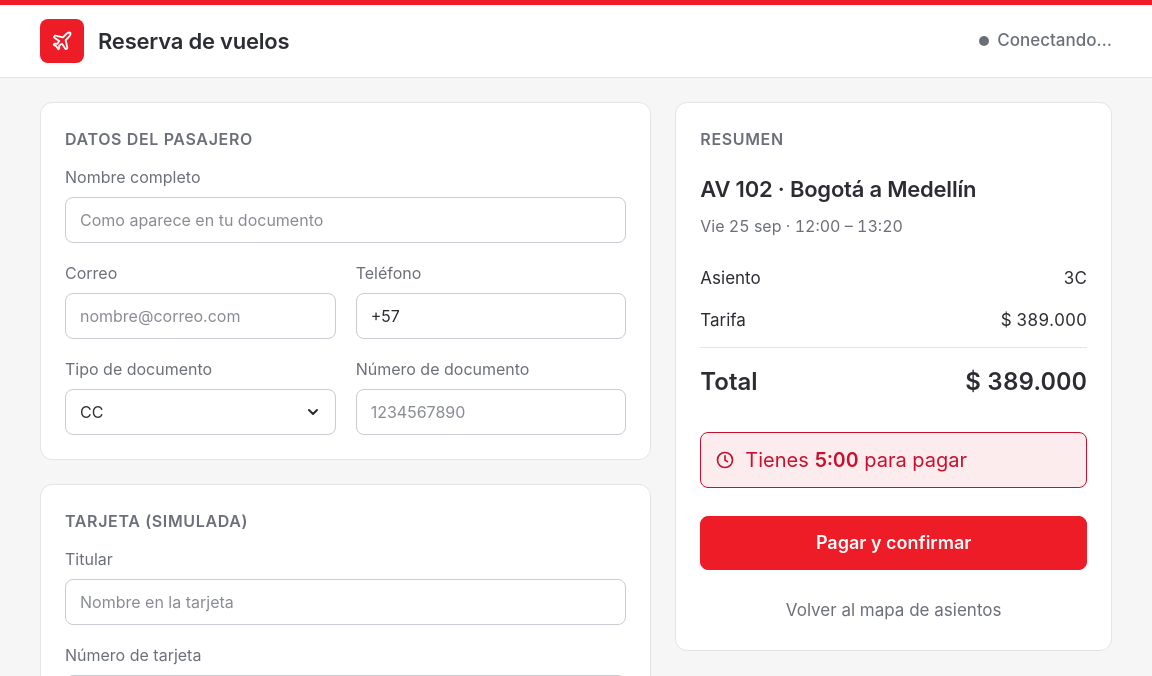
Test: CheckoutPage: the form › the document rules follow the document type
The image size is (1152, 676).
Expected: the button "Pagar y confirmar" is shown, [700,516,1087,570]
Type "AB12345" into the field with id "documentNumber".
click(491, 412); type("AB12345")  # box [356,389,626,435]
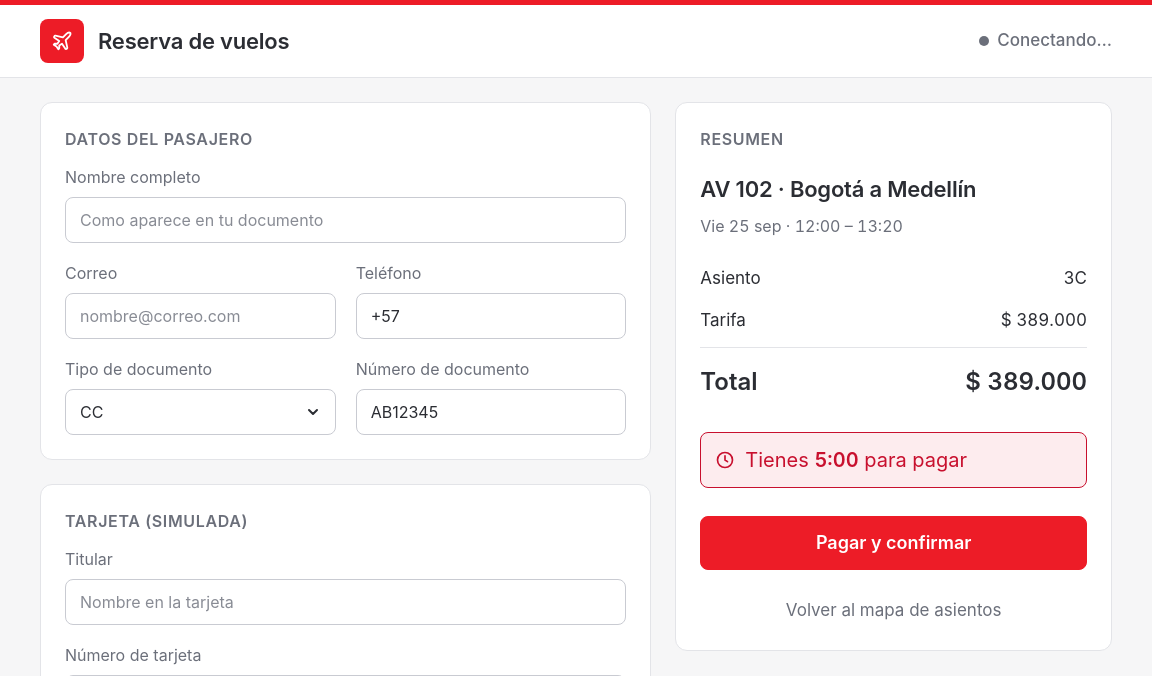
Leave the field with id "documentNumber", box [356,389,626,435]
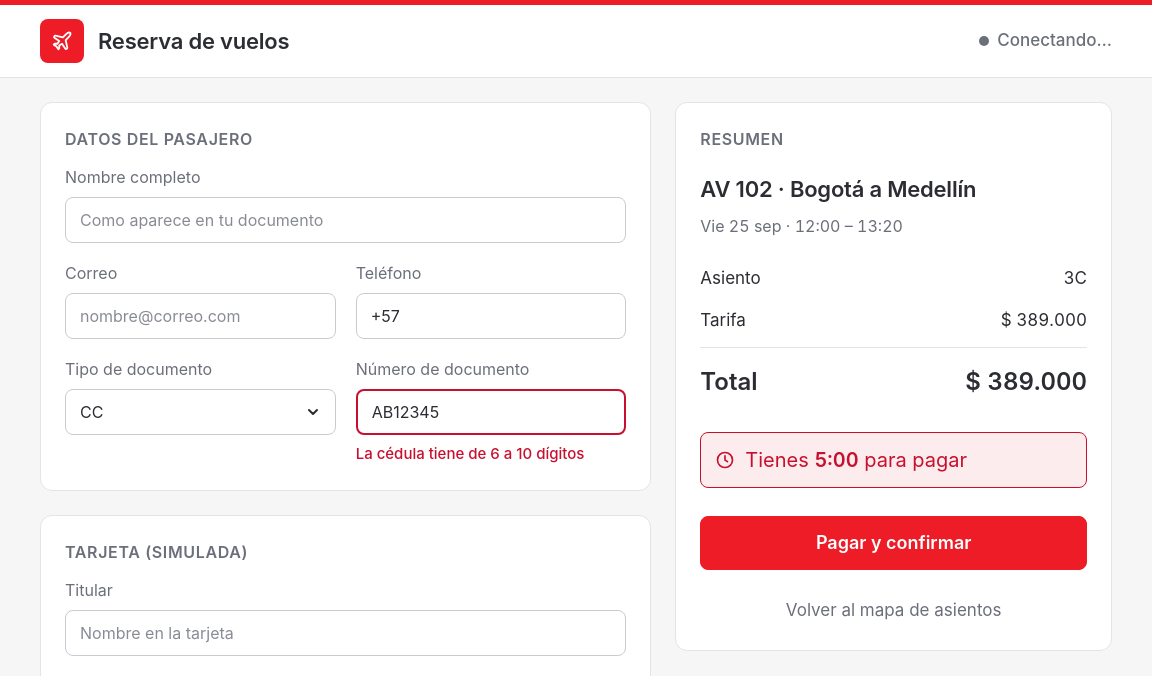
Result: the text "La cédula tiene de 6 a 10 dígitos" is shown at [356,444,584,463]
Select "Pasaporte" in the dropdown with id "documentType" at (200, 412), box [65,389,336,435]
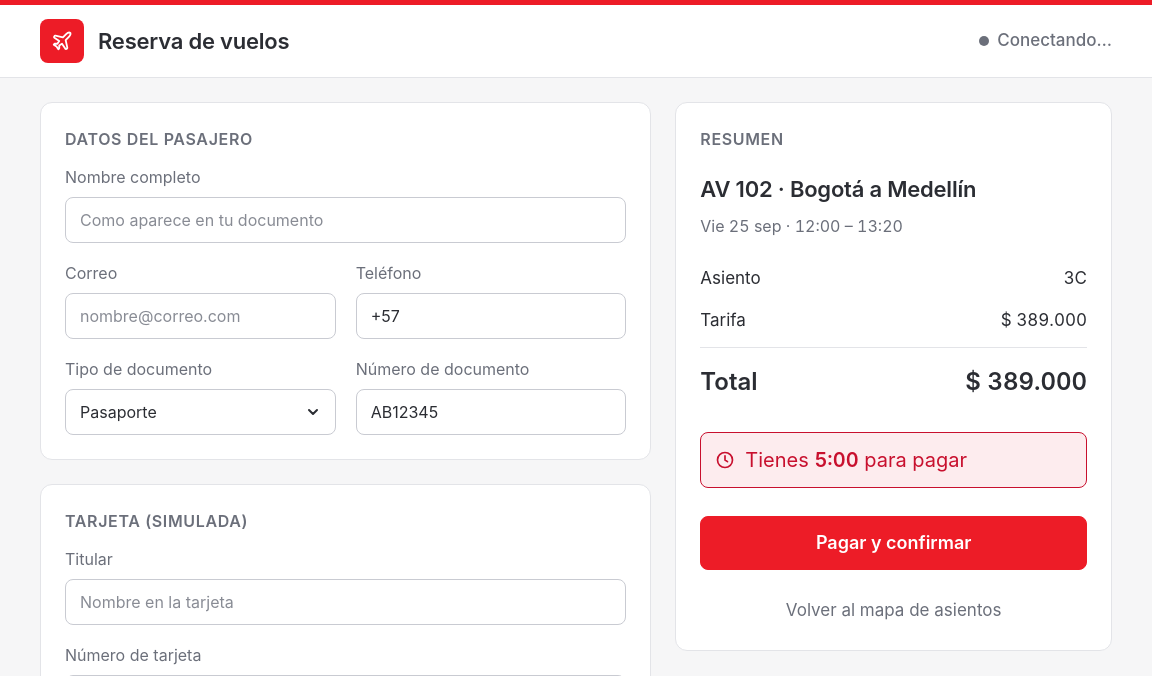
Result: the text "La cédula tiene" is gone
